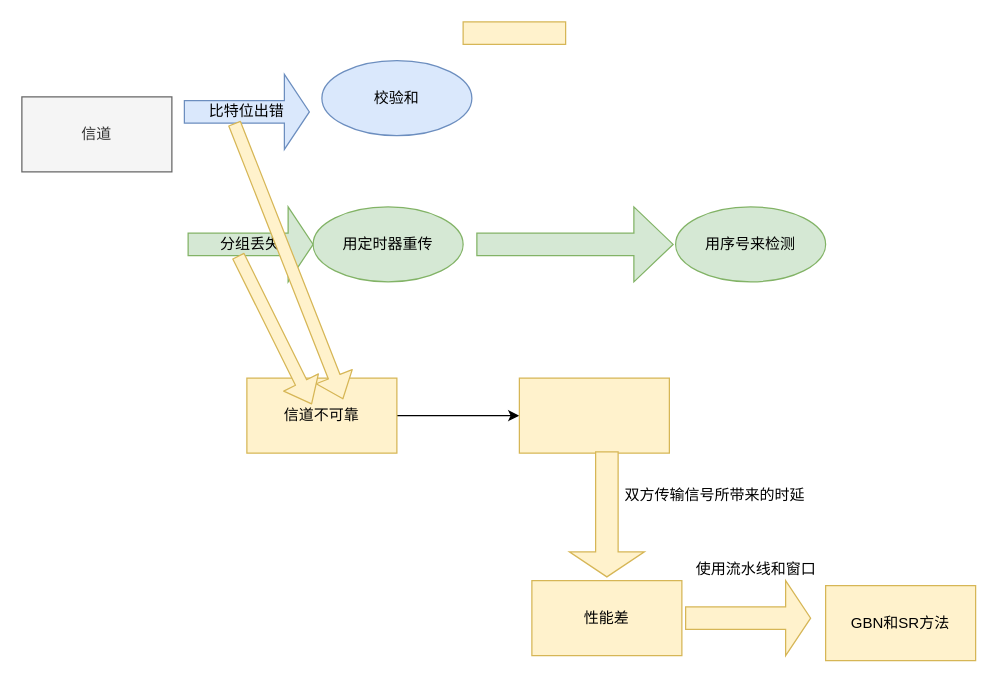
This 998x683 diagram has some shape labels left out. The centre of each missing label's shape, as x and y in pixels:
"使用ACK确认" goes at point (593, 415).
"可靠传输原理" goes at point (514, 32).
"重传所导致的冗余副本" goes at point (574, 244).
